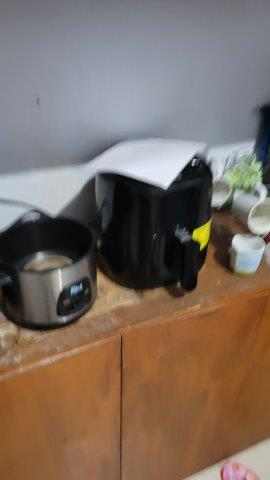kertas: (80, 126, 209, 185)
